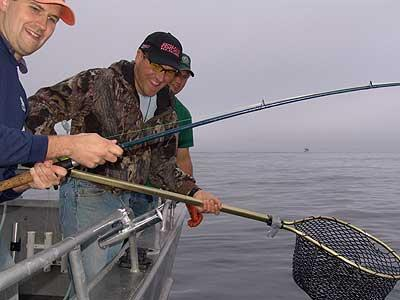person: (28, 32, 224, 299)
